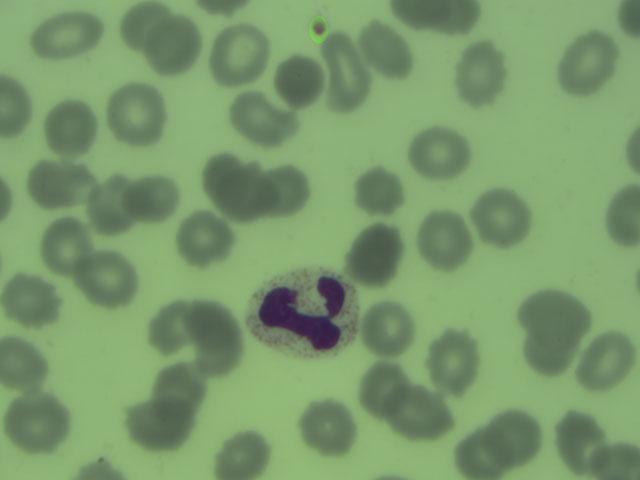Platelets: (303, 14, 332, 44)
RBC: (227, 94, 298, 148), (516, 291, 592, 338), (320, 31, 368, 105), (120, 404, 190, 452), (29, 12, 105, 56), (475, 185, 530, 244), (416, 209, 471, 268), (410, 121, 465, 180), (487, 407, 542, 466), (300, 397, 355, 456), (430, 331, 485, 390), (359, 297, 414, 356), (344, 225, 399, 284), (192, 305, 247, 364), (558, 414, 613, 473), (582, 327, 637, 386), (558, 34, 613, 93), (451, 42, 506, 101), (362, 18, 417, 77), (9, 390, 64, 449), (3, 270, 58, 329), (83, 248, 138, 307), (41, 215, 96, 274), (42, 98, 97, 157), (109, 86, 164, 145), (273, 49, 328, 108), (207, 24, 262, 83), (147, 13, 202, 72), (214, 426, 271, 479), (151, 357, 205, 412), (358, 359, 410, 415), (177, 213, 230, 266), (395, 383, 447, 436), (257, 162, 308, 216), (450, 430, 505, 479), (205, 161, 262, 208), (84, 176, 132, 231), (1, 334, 48, 389), (23, 162, 83, 205), (148, 297, 192, 354), (357, 164, 406, 215), (522, 328, 574, 375), (119, 1, 170, 48), (609, 182, 640, 253), (425, 1, 489, 34), (1, 72, 29, 142), (128, 175, 179, 210), (68, 452, 132, 479)
WBC: (251, 266, 358, 362)
